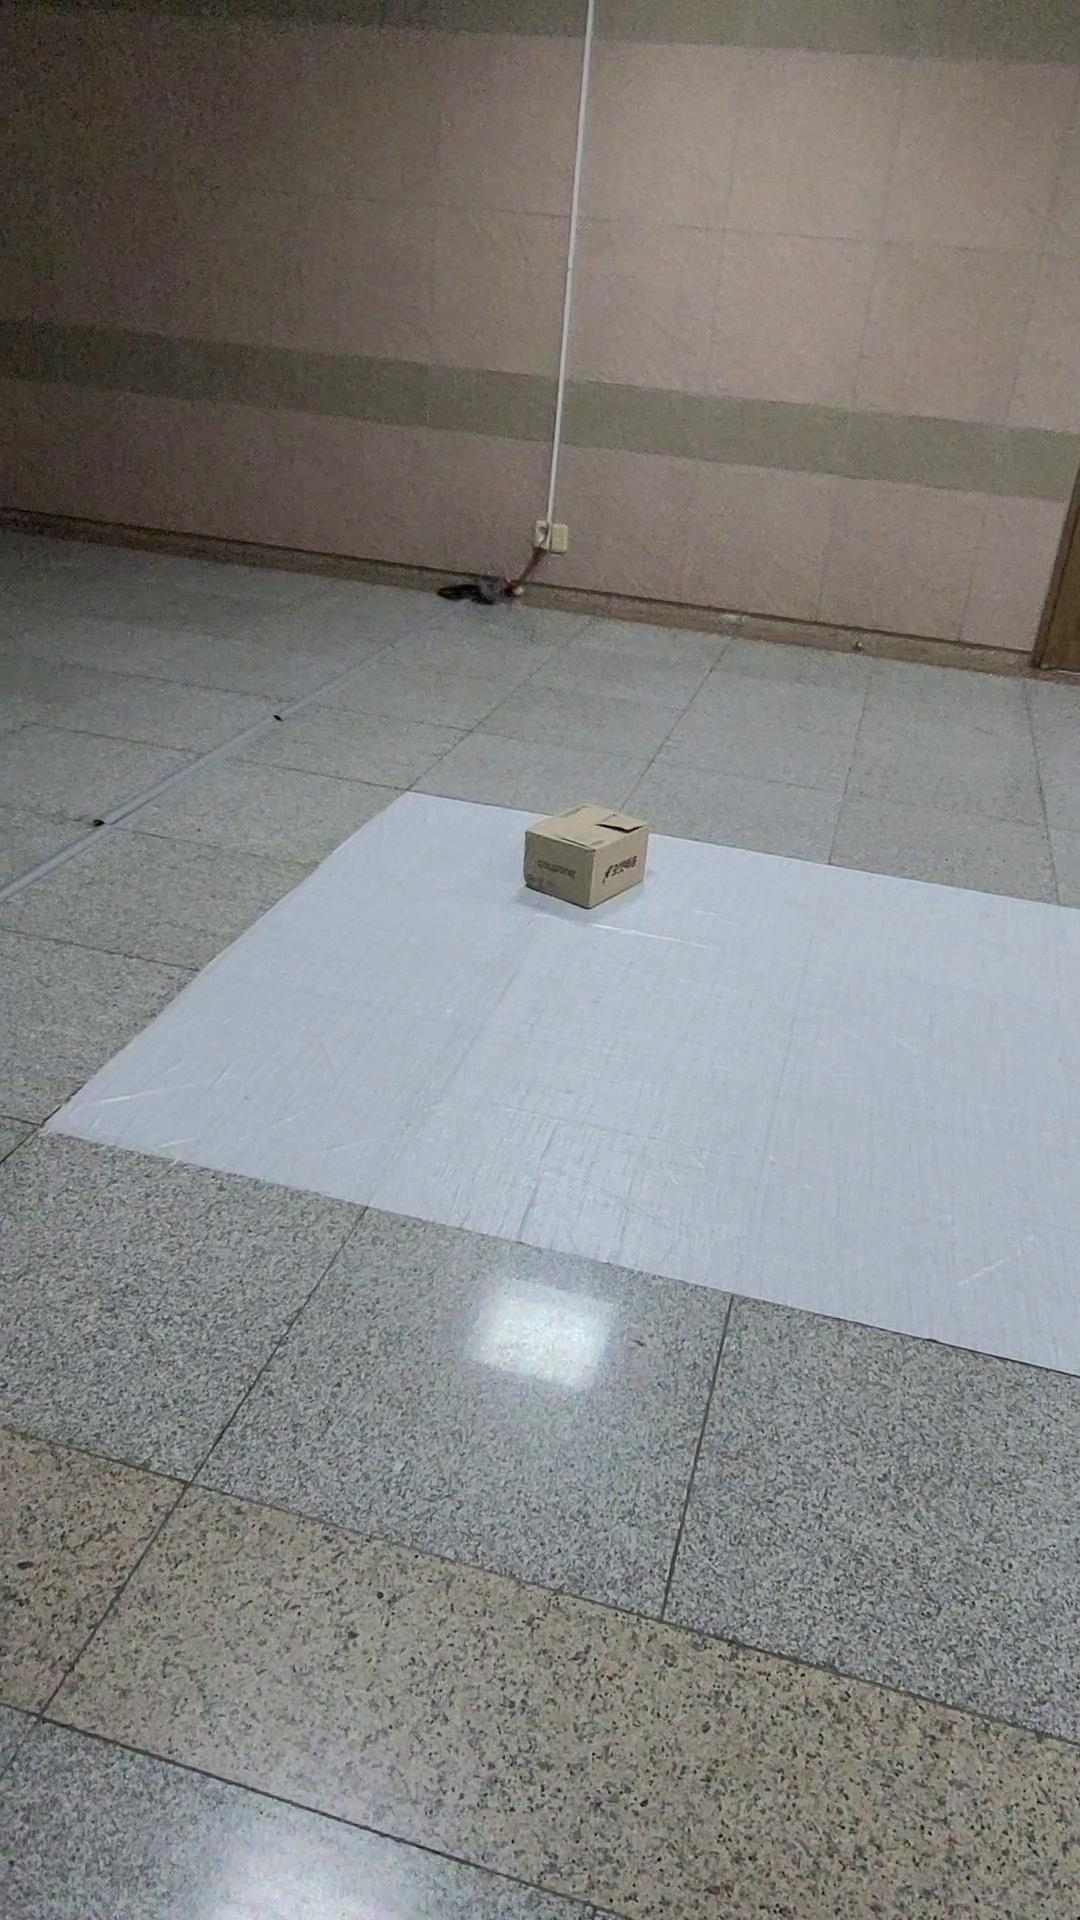Box: (462, 767, 661, 923)
